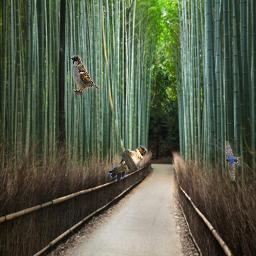Sparrow: (71, 55, 100, 95)
Swallow: (108, 145, 148, 181), (225, 141, 241, 181)
